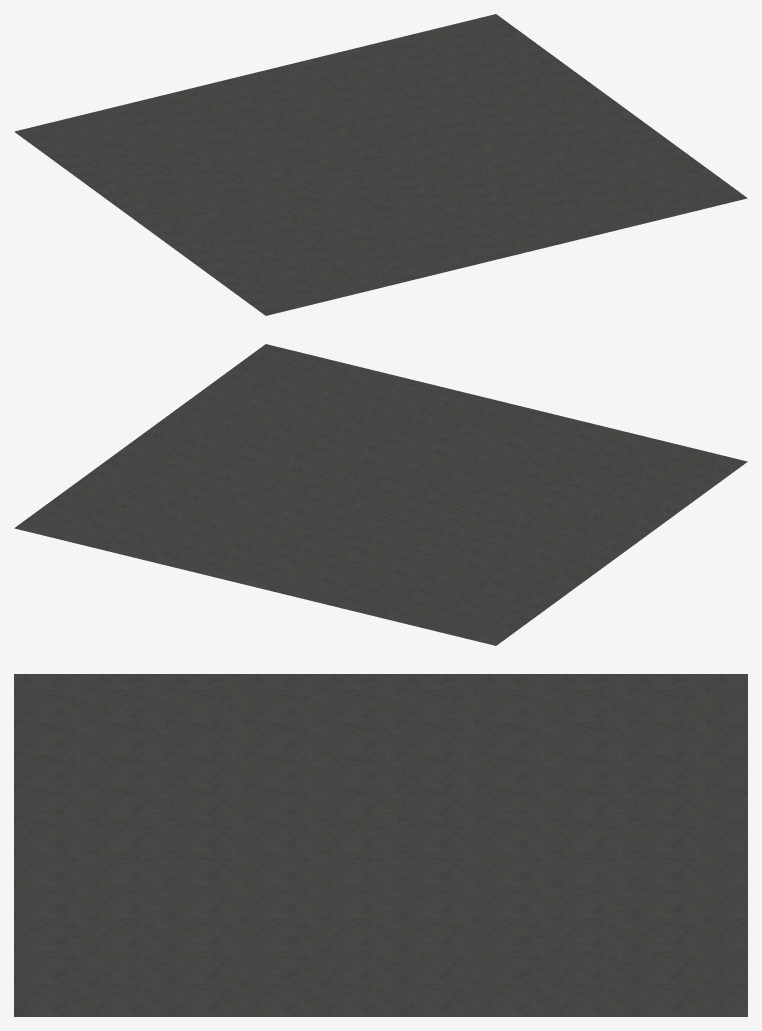
Rendered from Ground.fbx.
3 renders of one model, top to bottom at view 1: azimuth 30°, elevation 25°; view 2: azimuth 150°, elevation 25°; view 3: azimuth 270°, elevation 25°, orthographic. The views are drawn at different scales.
Visible parts, largest first — view 1: Ground; view 2: Ground; view 3: Ground.
Part boxes in pixels (left/top/right/bottom): Ground: left=14, top=14, right=747, bottom=315; Ground: left=14, top=344, right=747, bottom=645; Ground: left=14, top=674, right=747, bottom=1016.
Bounding box in the file's own units: 42 × 0 × 38.
